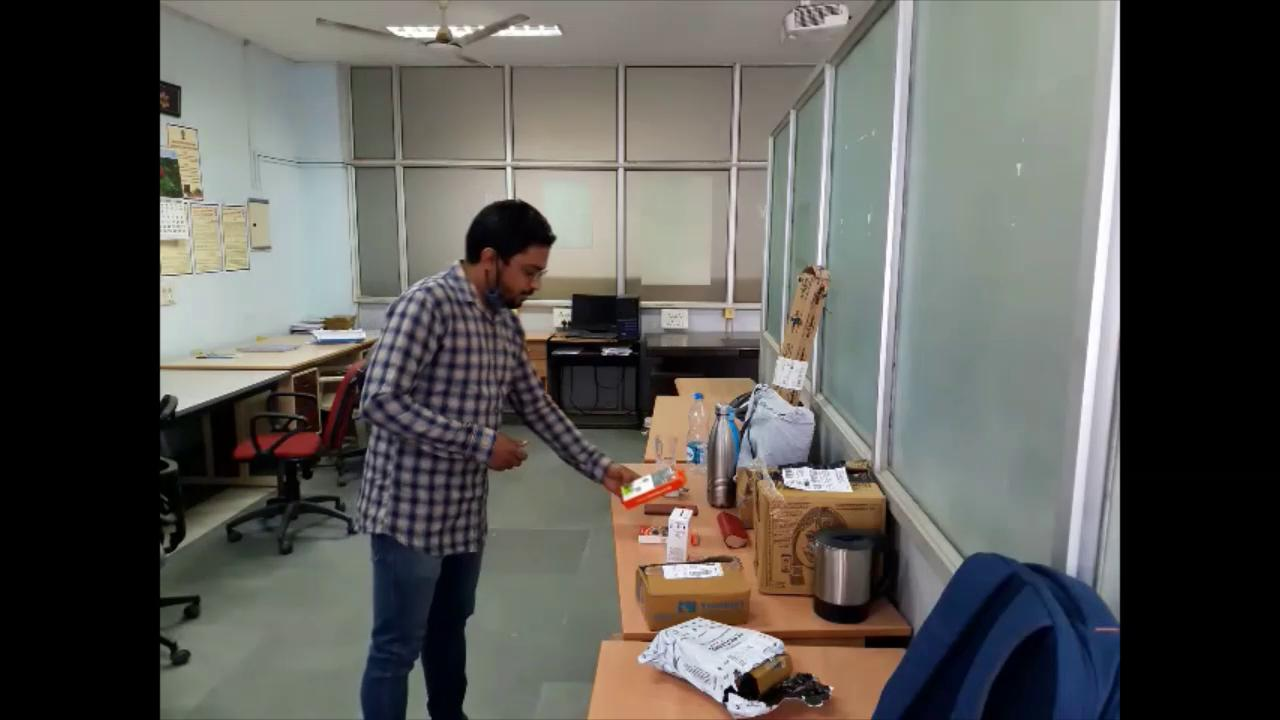Normal: (344, 192, 685, 717)
